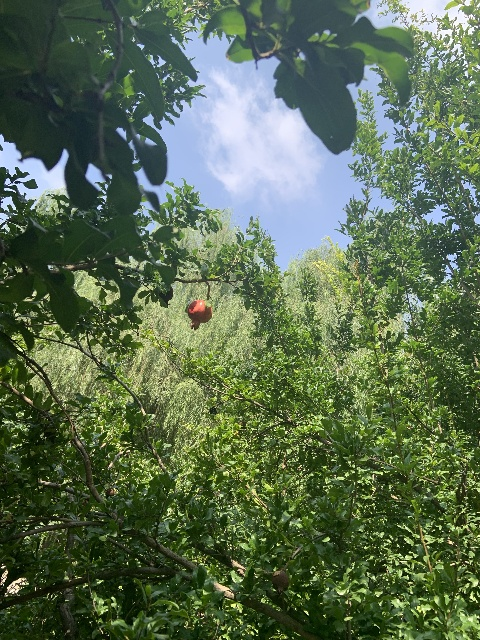flower: (187, 299, 212, 330)
